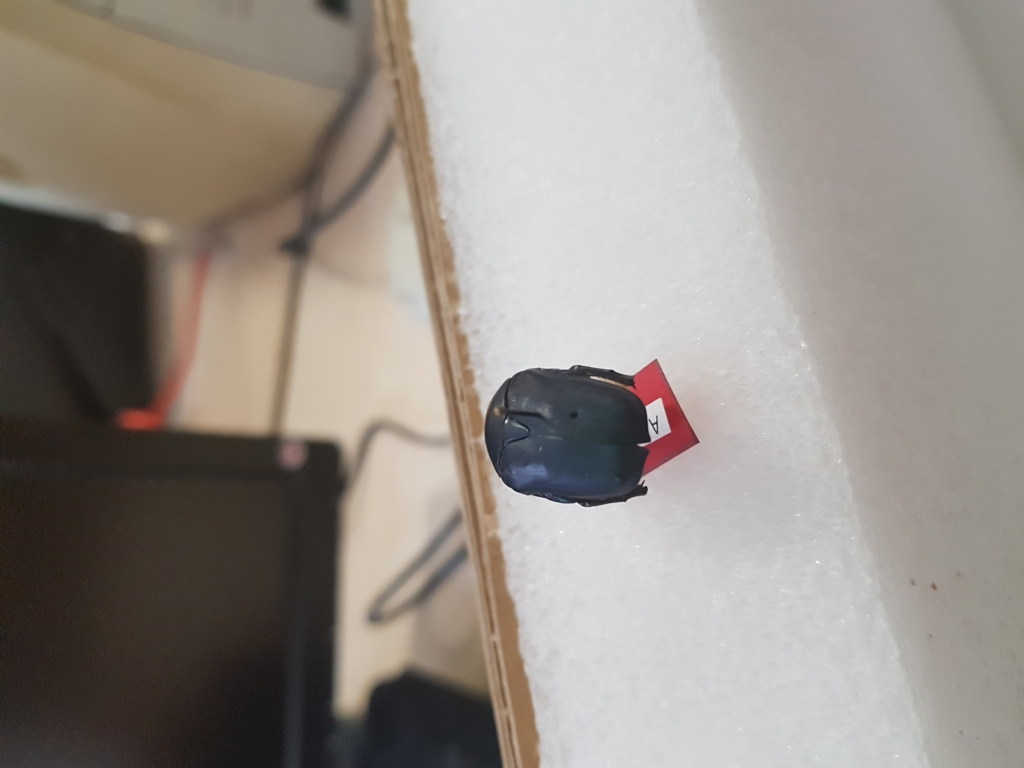Protaetia_afflicta: (479, 359, 655, 508)
